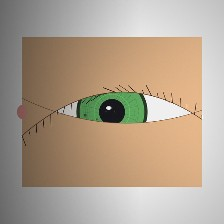pinguecula_lesion: (39, 110, 68, 133)
